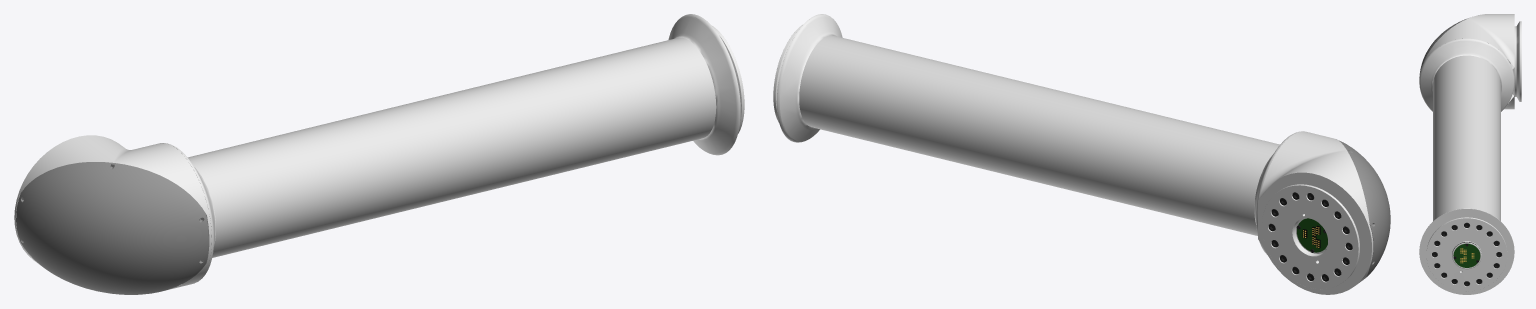
The picture shows the model from 3 angles, left to right: view 1: azimuth 30°, elevation 25°; view 2: azimuth 150°, elevation 25°; view 3: azimuth 270°, elevation 25°; orthographic projection. The views are drawn at different scales.
Parts seen in each view (by area): view 1: L148.001; view 2: L148.001; view 3: L148.001.
Boxes of the visible parts, x1=… form: L148.001: x1=14, y1=14, x2=744, y2=294; L148.001: x1=773, y1=14, x2=1390, y2=294; L148.001: x1=1419, y1=14, x2=1521, y2=294.
Size of the model in its own units: 0.7886 by 0.148 by 0.1589.
